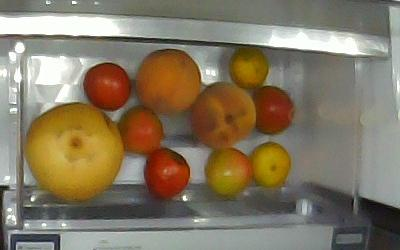peach: (190, 82, 257, 149), (135, 48, 201, 115)
pear: (27, 102, 124, 200)
tangerine: (250, 141, 290, 186), (229, 46, 268, 88)
tomato: (143, 147, 190, 200), (83, 63, 131, 112), (205, 148, 253, 195), (118, 105, 163, 153), (252, 85, 294, 135)
